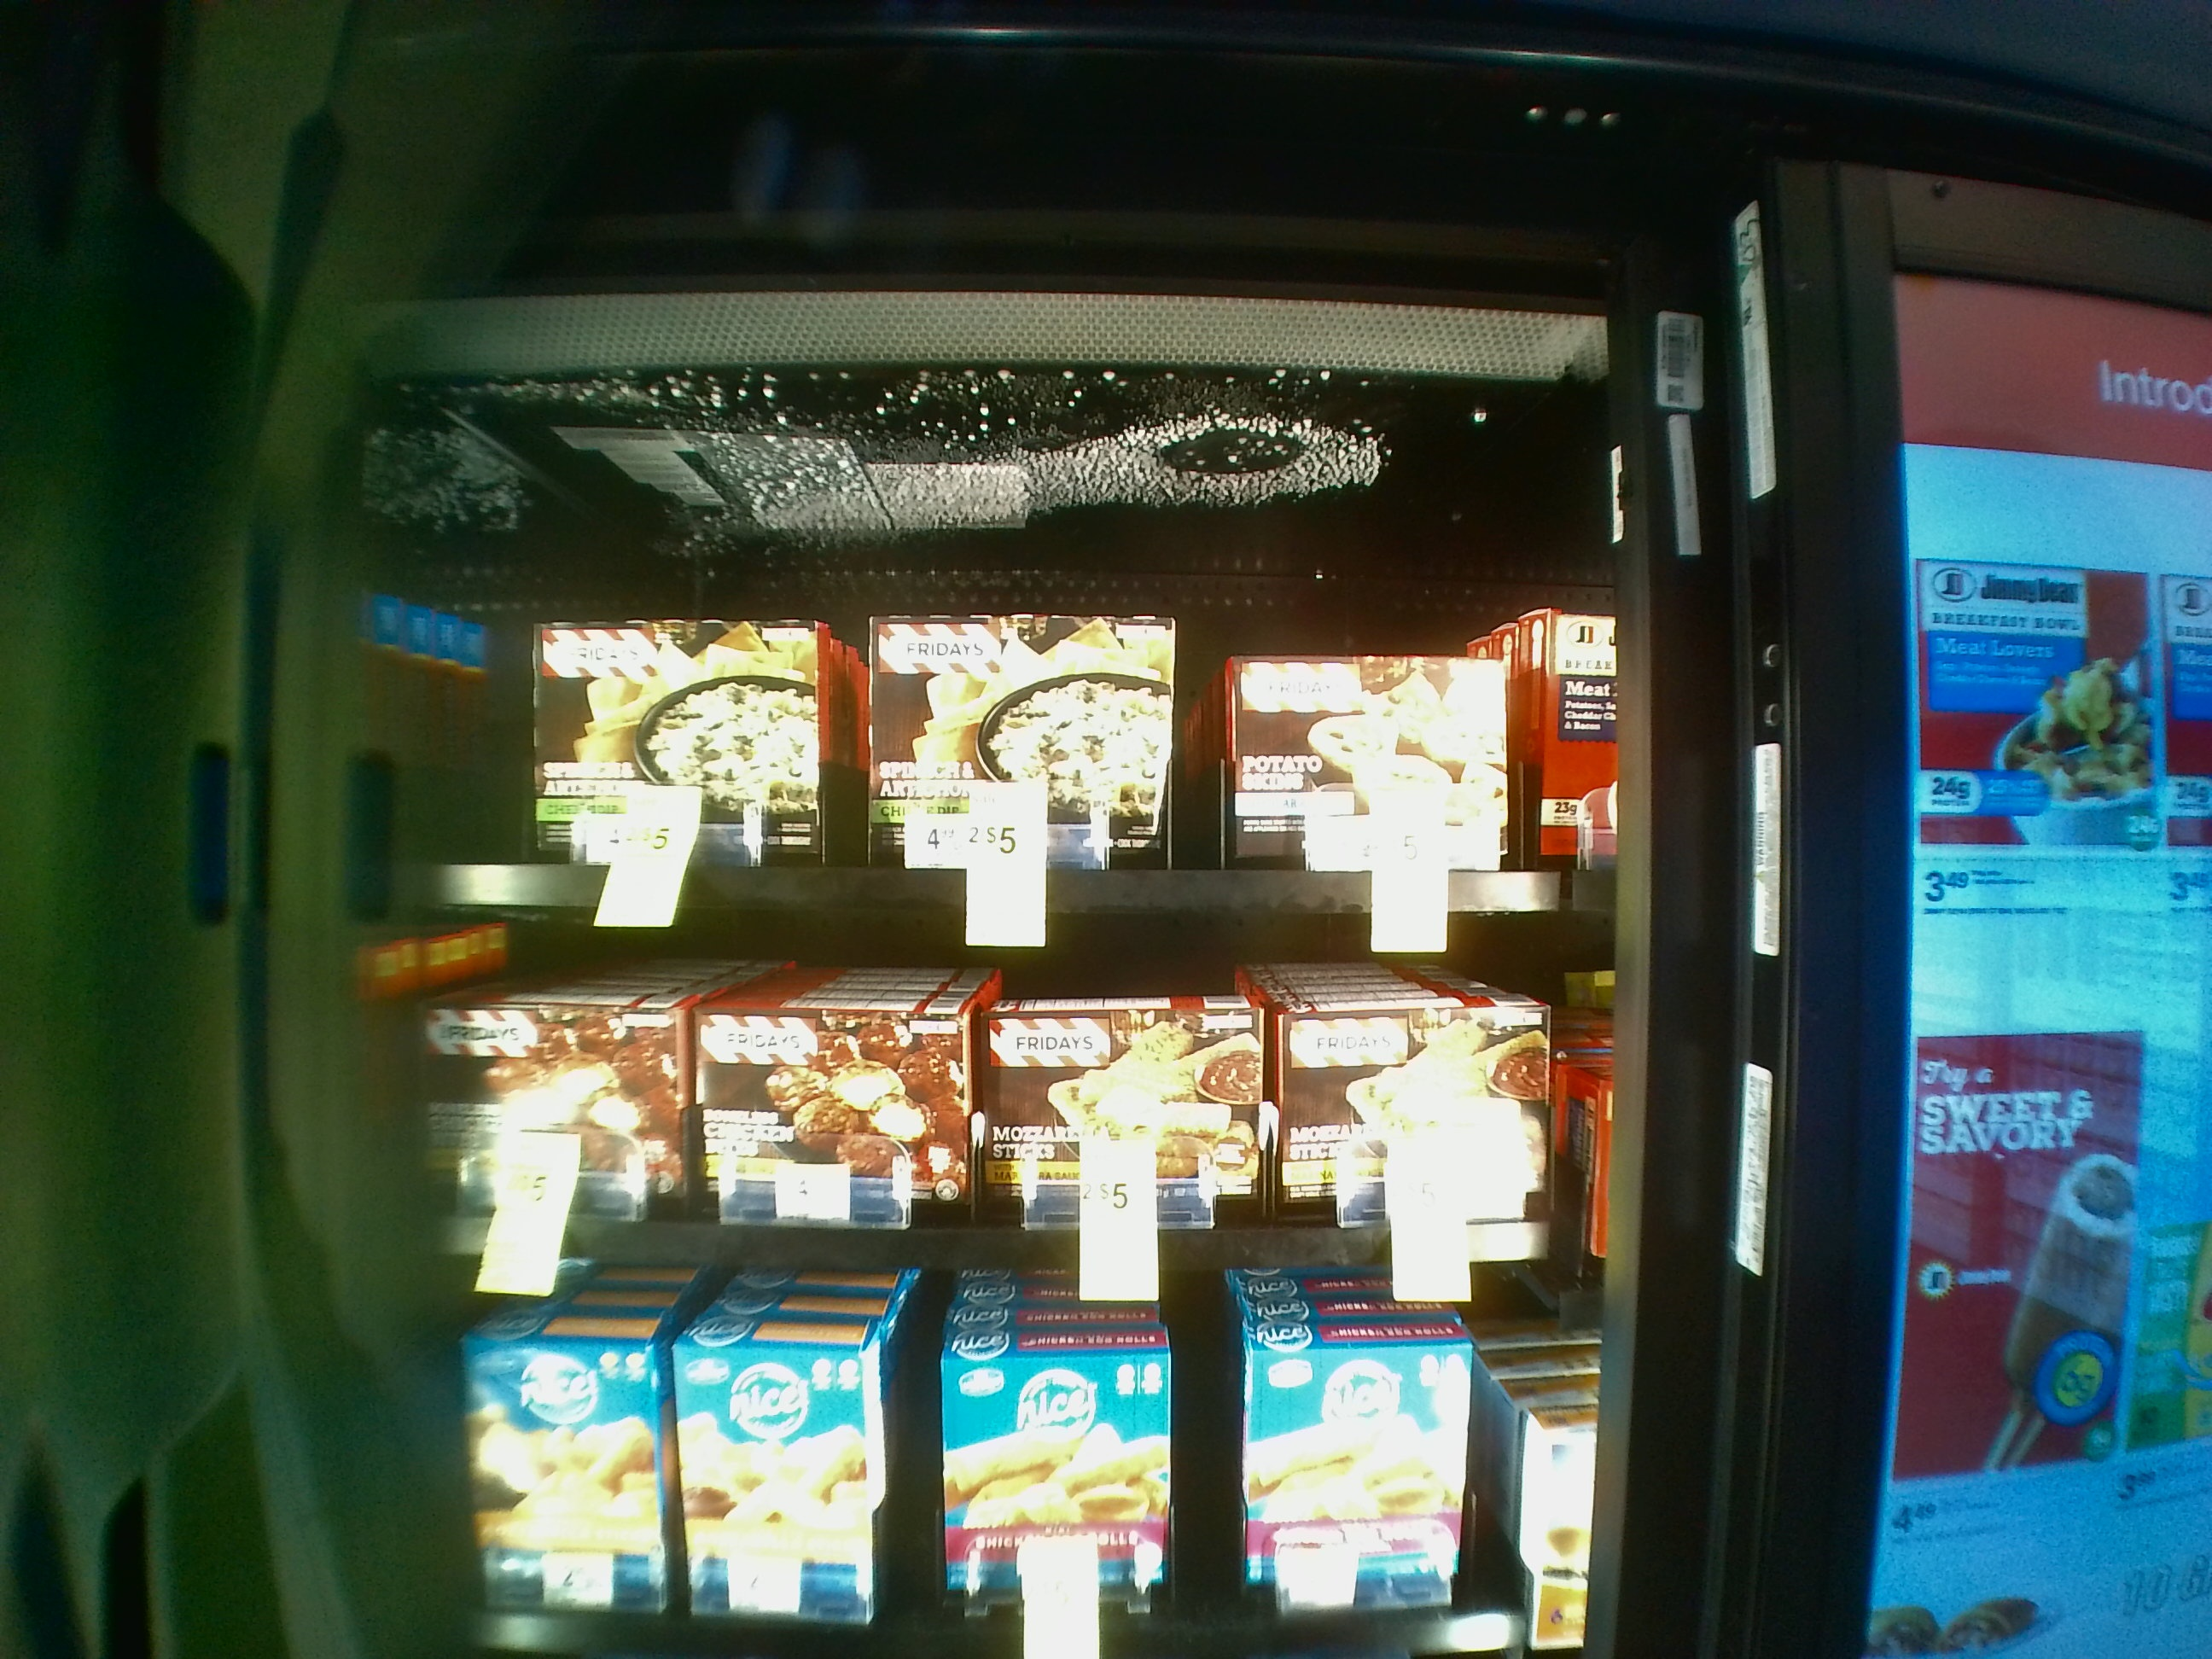shelf: (355, 387, 1604, 927), (366, 939, 1616, 1279)
